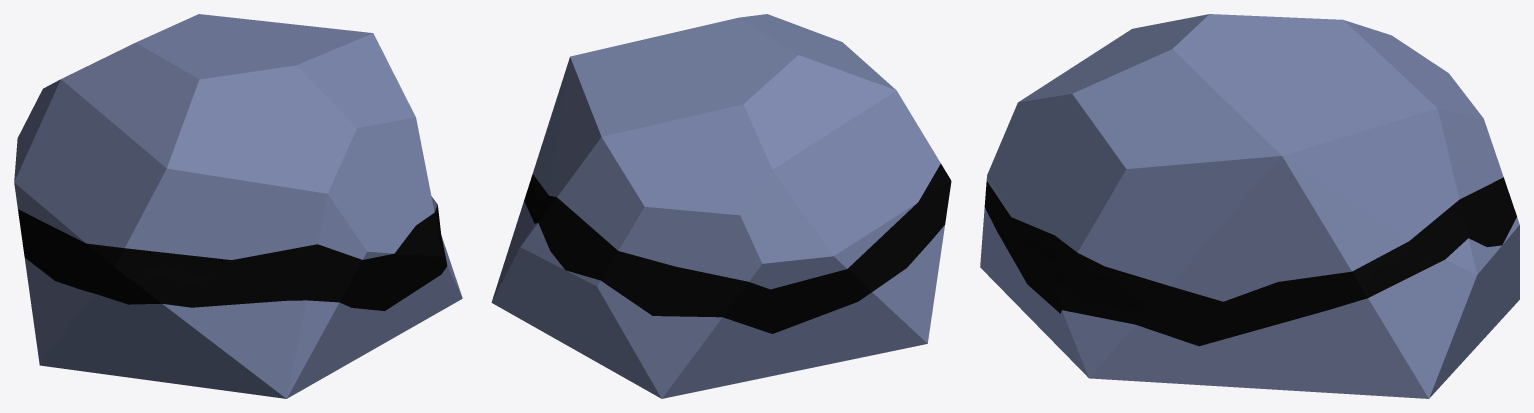
File: Rock Granit Gold 03.fbx
The picture shows the model from 3 angles, left to right: view 1: azimuth 30°, elevation 25°; view 2: azimuth 150°, elevation 25°; view 3: azimuth 270°, elevation 25°; orthographic projection. The views are drawn at different scales.
Parts seen in each view (by area): view 1: Rock Granit Gold 03; view 2: Rock Granit Gold 03; view 3: Rock Granit Gold 03.
Part boxes in pixels (x1,y1,x2,y2): Rock Granit Gold 03: [14, 14, 462, 398]; Rock Granit Gold 03: [491, 14, 951, 398]; Rock Granit Gold 03: [980, 14, 1519, 398].
Bounding box in the file's own units: 142 × 97.49 × 163.
